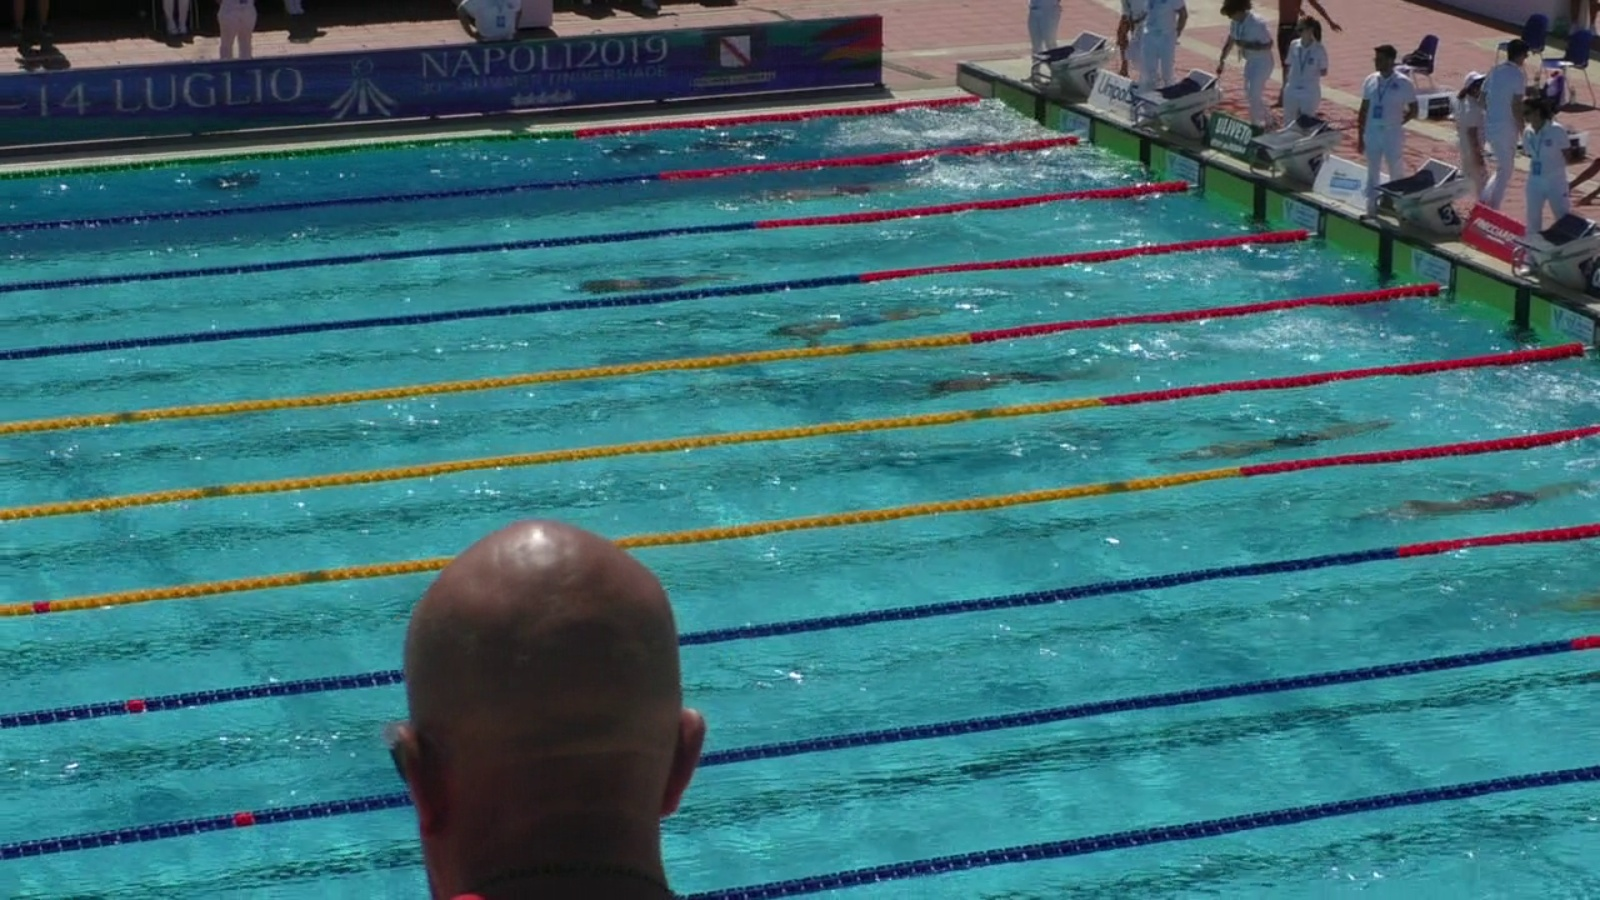swimmer: (690, 131, 790, 156), (1555, 589, 1598, 613)
swimmerwdd: (1147, 420, 1402, 457), (769, 299, 946, 337), (1384, 484, 1587, 516), (554, 265, 734, 297), (737, 184, 937, 203), (925, 373, 1062, 393)
